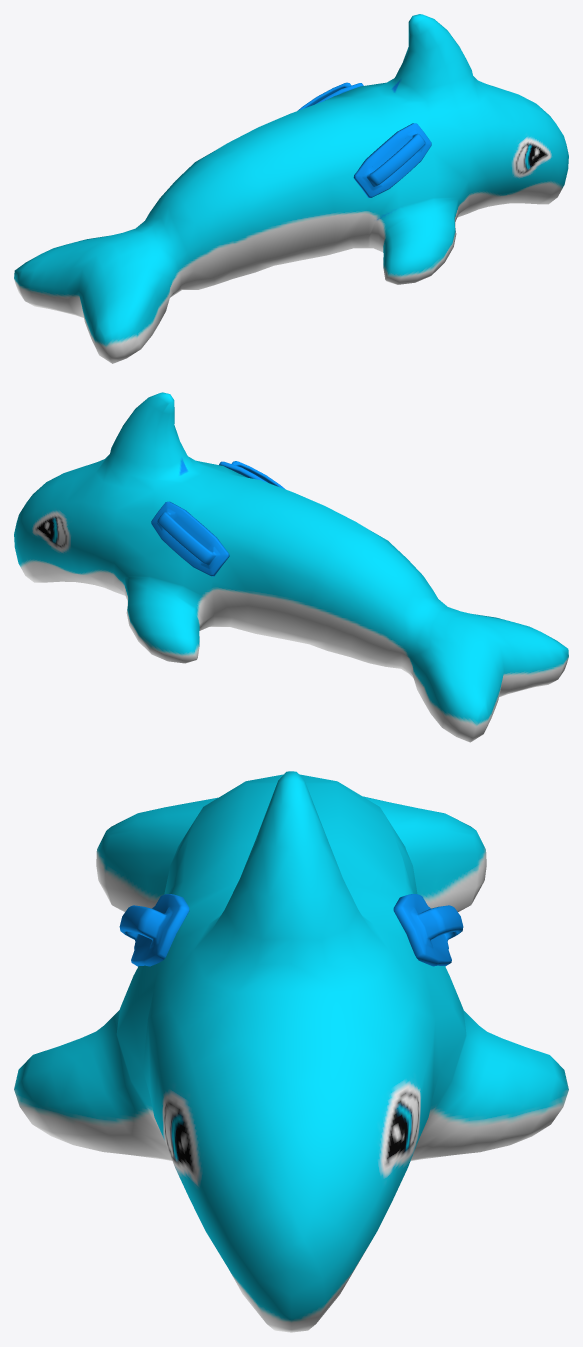
File: Phao10.fbx
3 renders of one model, top to bottom at view 1: azimuth 30°, elevation 25°; view 2: azimuth 150°, elevation 25°; view 3: azimuth 270°, elevation 25°, orthographic. The views are drawn at different scales.
Visible parts, largest first — view 1: toy_dolphin_pooltoy_dolphin_0.001; view 2: toy_dolphin_pooltoy_dolphin_0.001; view 3: toy_dolphin_pooltoy_dolphin_0.001.
Boxes of the visible parts, x1,y1,x2,y2 form: toy_dolphin_pooltoy_dolphin_0.001: [14, 14, 568, 363]; toy_dolphin_pooltoy_dolphin_0.001: [14, 392, 568, 742]; toy_dolphin_pooltoy_dolphin_0.001: [14, 771, 568, 1332].
Bounding box in the file's own units: 2.09 × 0.9171 × 0.9911.
